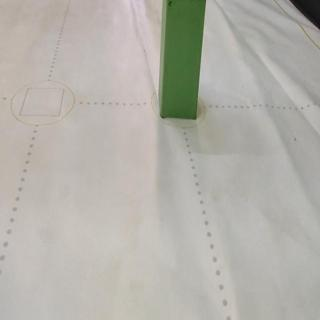greenbox: (159, 0, 207, 118)
